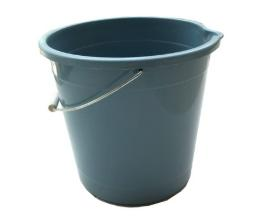SEAU: (24, 14, 247, 219)
